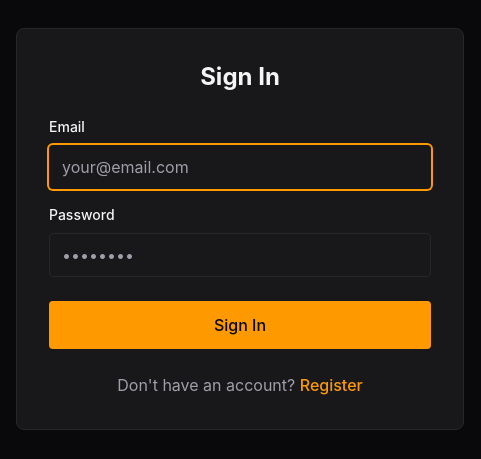
Phase 1+2: Foundation, Auth Store & Auth UI › LoginPage (AUTH-02) › shows error on failed login (AUTH-02)
The width and height of the screenshot is (481, 459).
Type "test@test.com" into the field labelled "Email" at (240, 167), box [49, 145, 431, 189]
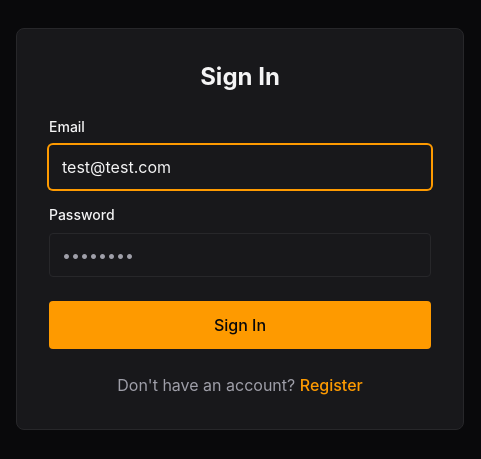
Type "password123" into the password field labelled "Password" at (240, 255), box [49, 233, 431, 277]
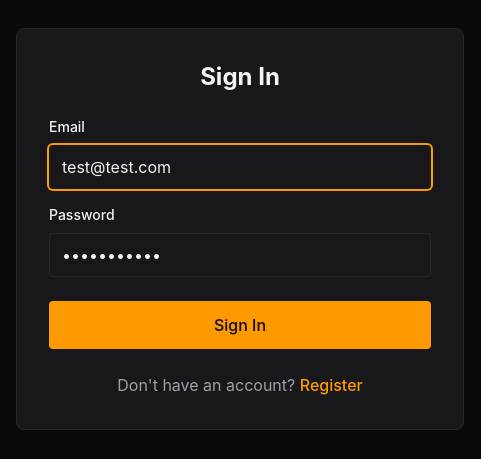
Click the button "Sign In" at (240, 325), box [49, 301, 431, 349]
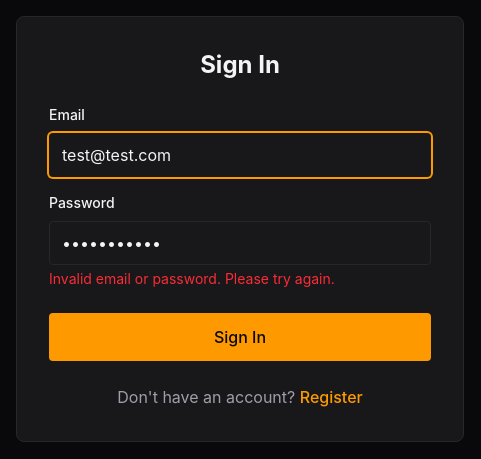
Now the text "Invalid email or password. Please try again." is shown, box [49, 270, 335, 287]
